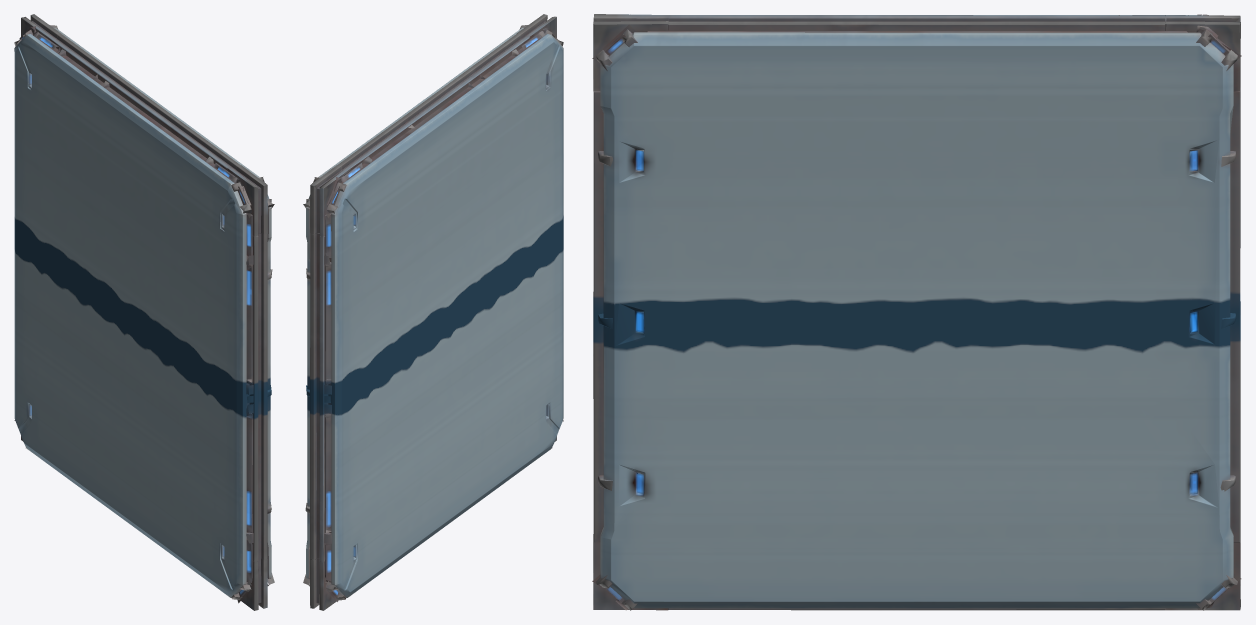
The model's file is Wall_Tek_C.glb.
3 views of the same model, side by side, from view 1: azimuth 30°, elevation 25°; view 2: azimuth 150°, elevation 25°; view 3: azimuth 270°, elevation 25° (orthographic). The views are drawn at different scales.
Visible parts, largest first — view 1: SM_Tek_WallSquare; view 2: SM_Tek_WallSquare; view 3: SM_Tek_WallSquare.
Part boxes in pixels (x1,y1,x2,y2): SM_Tek_WallSquare: (14, 14, 274, 610); SM_Tek_WallSquare: (303, 14, 563, 610); SM_Tek_WallSquare: (592, 14, 1241, 610).
Bounding box in the file's own units: 0.2684 × 3.02 × 3.01.
1 material, 1 textured.
